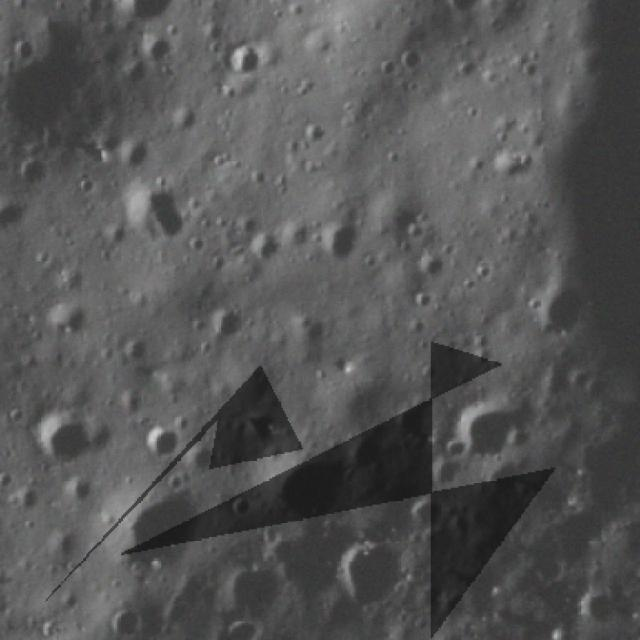crater: (0, 10, 102, 136), (102, 477, 209, 581), (259, 441, 356, 525), (339, 533, 428, 615), (263, 524, 349, 599), (452, 394, 536, 460), (29, 405, 94, 477), (525, 280, 589, 346), (124, 182, 185, 248), (226, 562, 291, 623), (309, 214, 362, 274), (41, 298, 94, 344), (114, 133, 161, 179), (107, 0, 188, 26), (409, 240, 449, 292), (44, 522, 88, 568), (137, 26, 181, 71), (204, 302, 248, 347), (404, 496, 450, 535), (144, 422, 184, 466), (8, 476, 47, 518), (227, 41, 264, 82), (214, 617, 269, 640), (0, 194, 26, 241), (436, 0, 480, 18)
